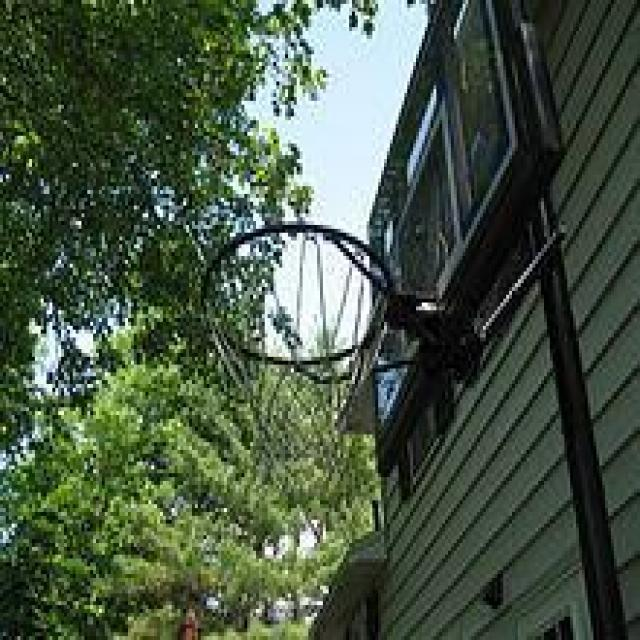hoop: (200, 221, 394, 493)
